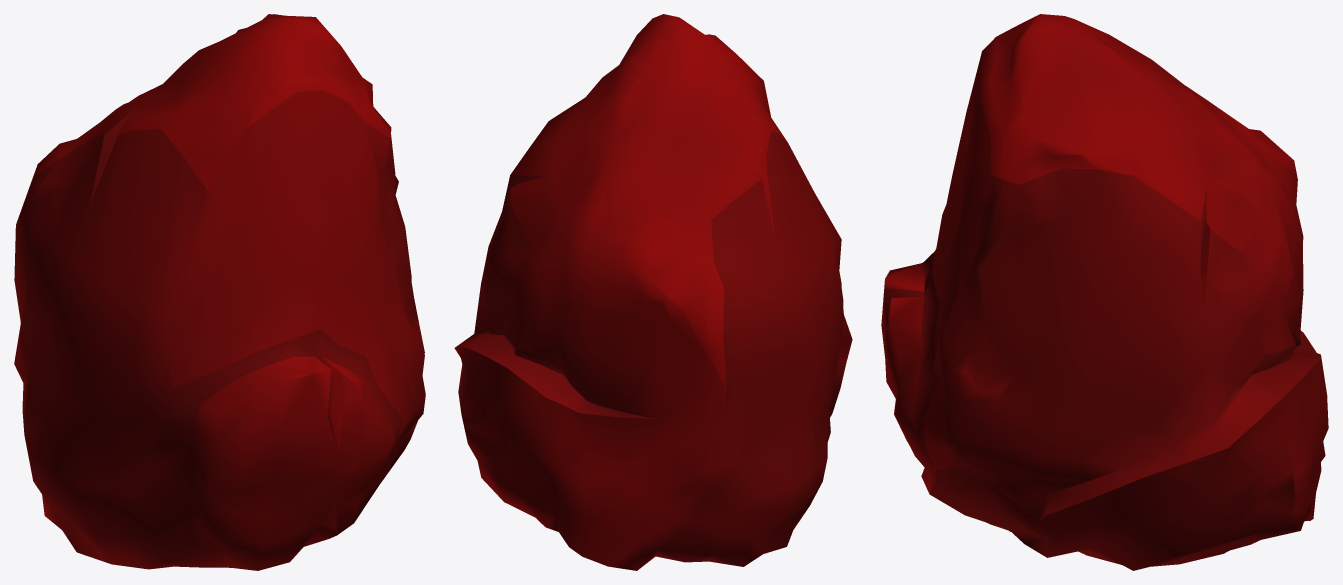
Rendered from geology-rocks-rockhuge_v4.fbx.
3 views of the same model, side by side, from view 1: azimuth 30°, elevation 25°; view 2: azimuth 150°, elevation 25°; view 3: azimuth 270°, elevation 25° (orthographic). The views are drawn at different scales.
Parts seen in each view (by area): view 1: RockHuge_v4; view 2: RockHuge_v4; view 3: RockHuge_v4.
Part boxes in pixels (box(x1,y1,x2,y2)): RockHuge_v4: box(14, 14, 425, 570); RockHuge_v4: box(454, 14, 852, 570); RockHuge_v4: box(881, 14, 1328, 570).
Bounding box in the file's own units: 20.58 × 28.67 × 21.7.
